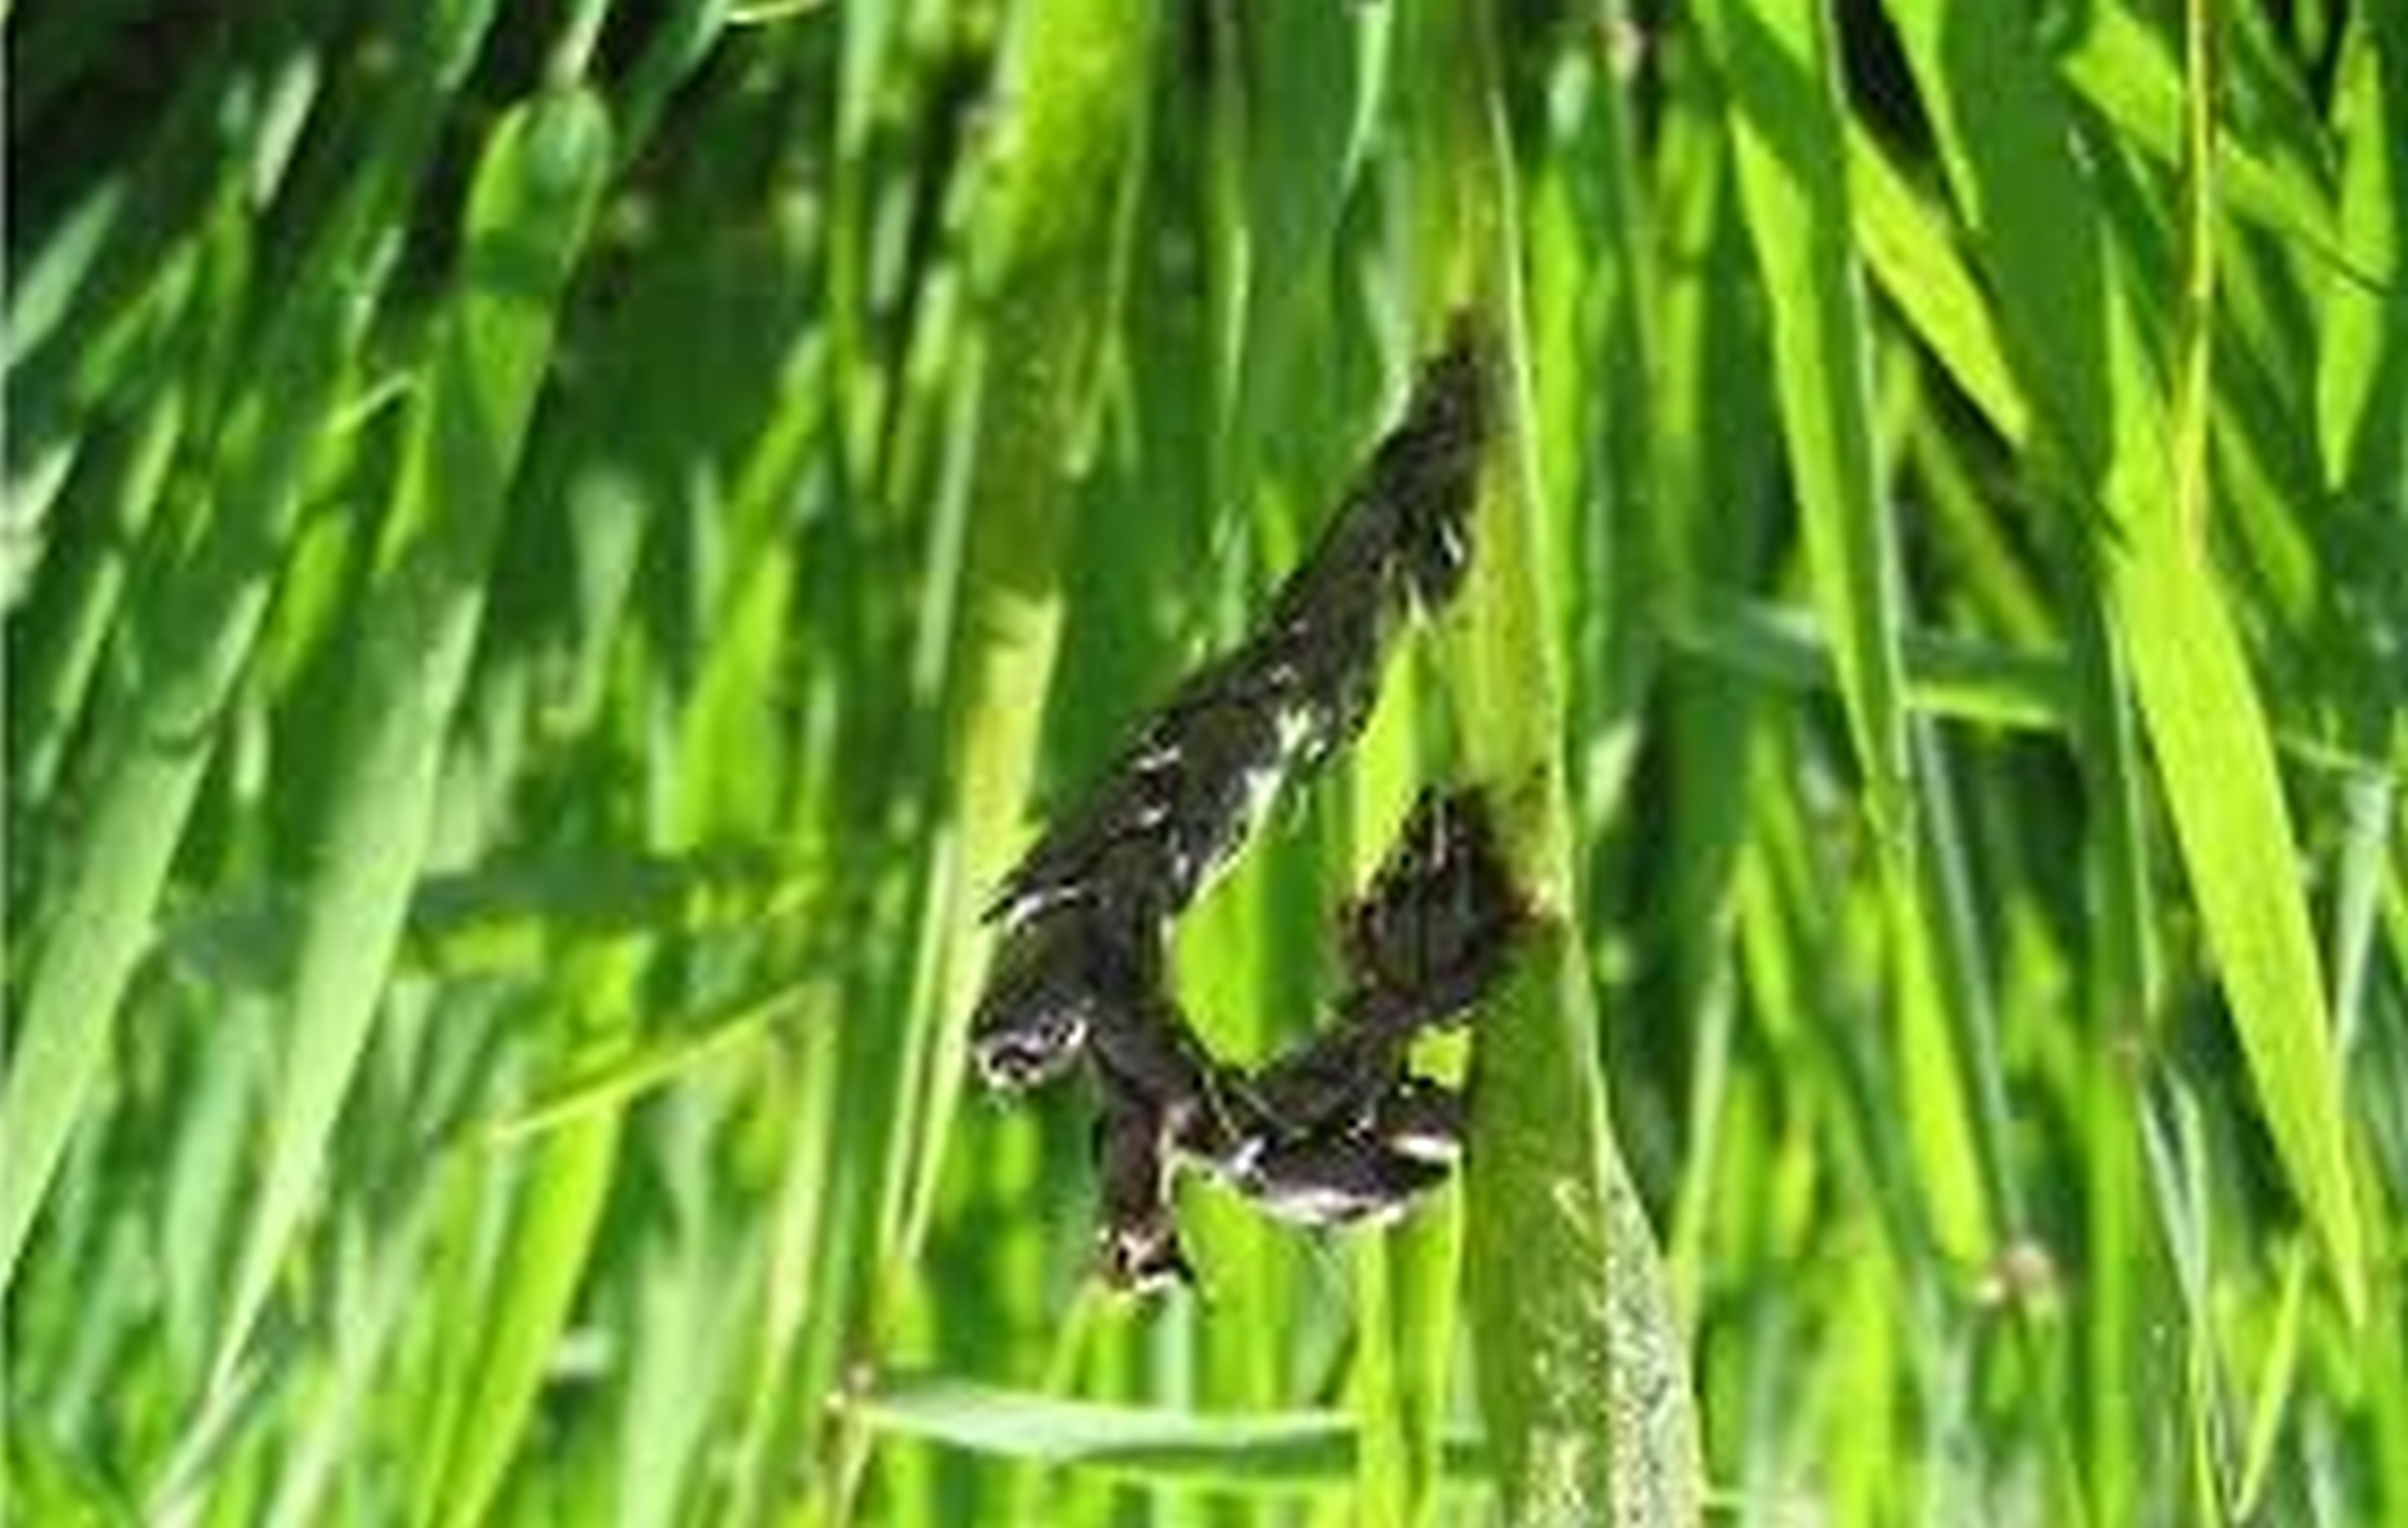Wheat Loose Smut: (962, 311, 1530, 1332)
